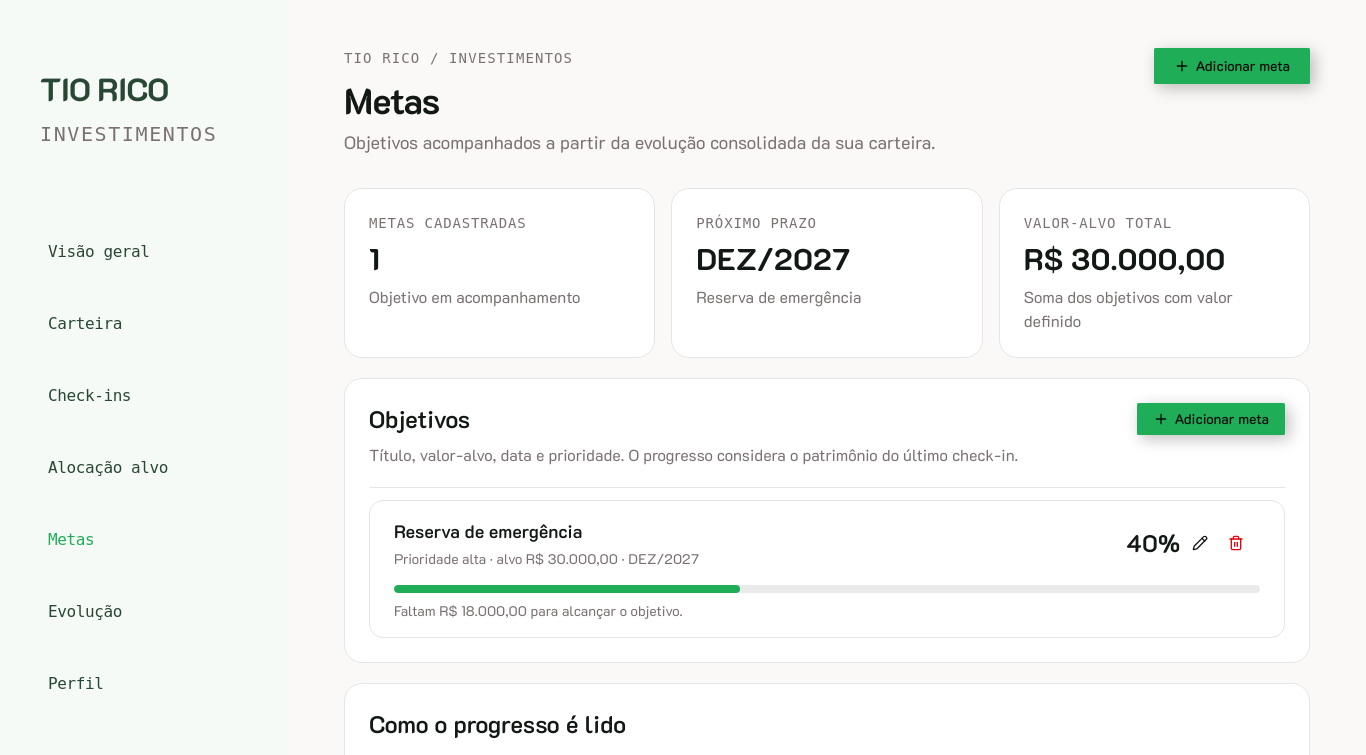
Test: Goals (metas) › mostra o erro da API no formulário quando salvar falha
Expected: the list named "Metas cadastradas" is shown, [369, 500, 1285, 638]
Click the button "Adicionar meta" in the row of "TIO RICO / INVESTIMENTOS" at (1232, 66), box [1154, 48, 1310, 84]
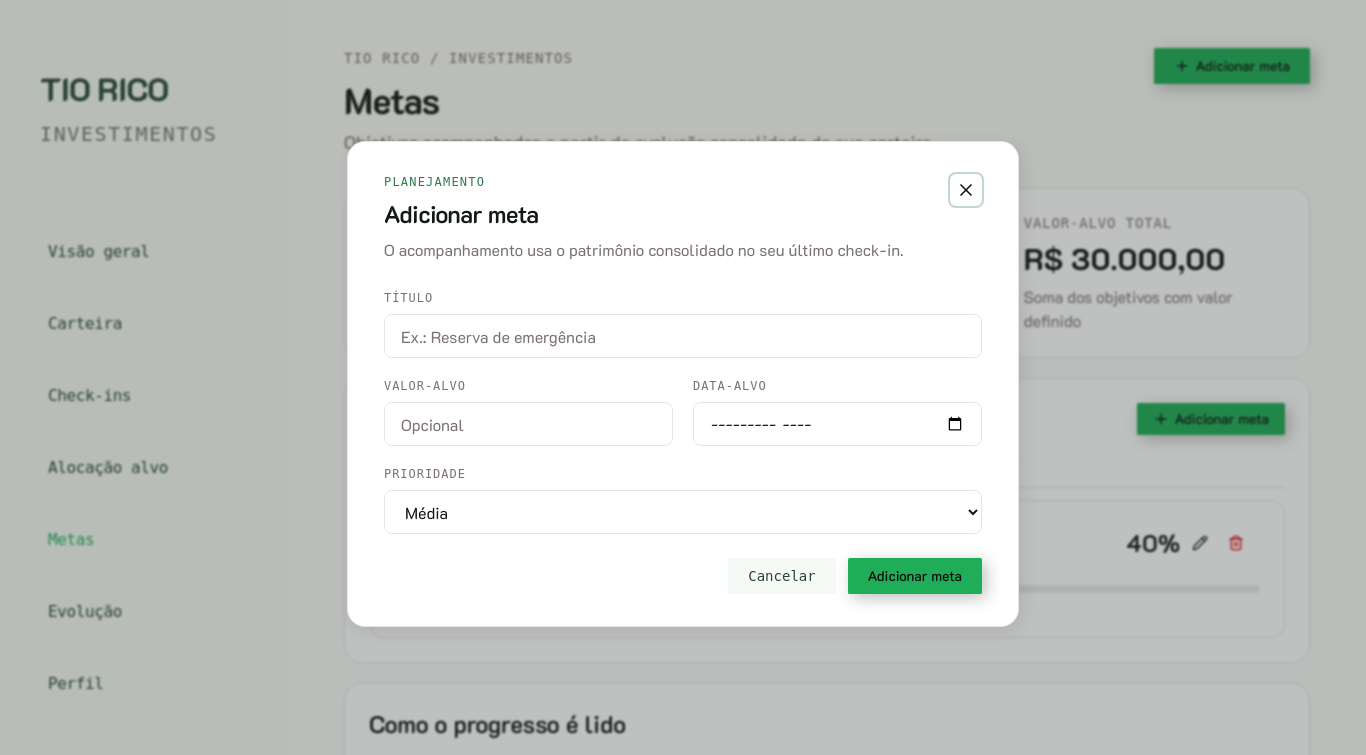
Type "Viagem" into the field labelled "Título" at (683, 336), box [384, 314, 982, 358]
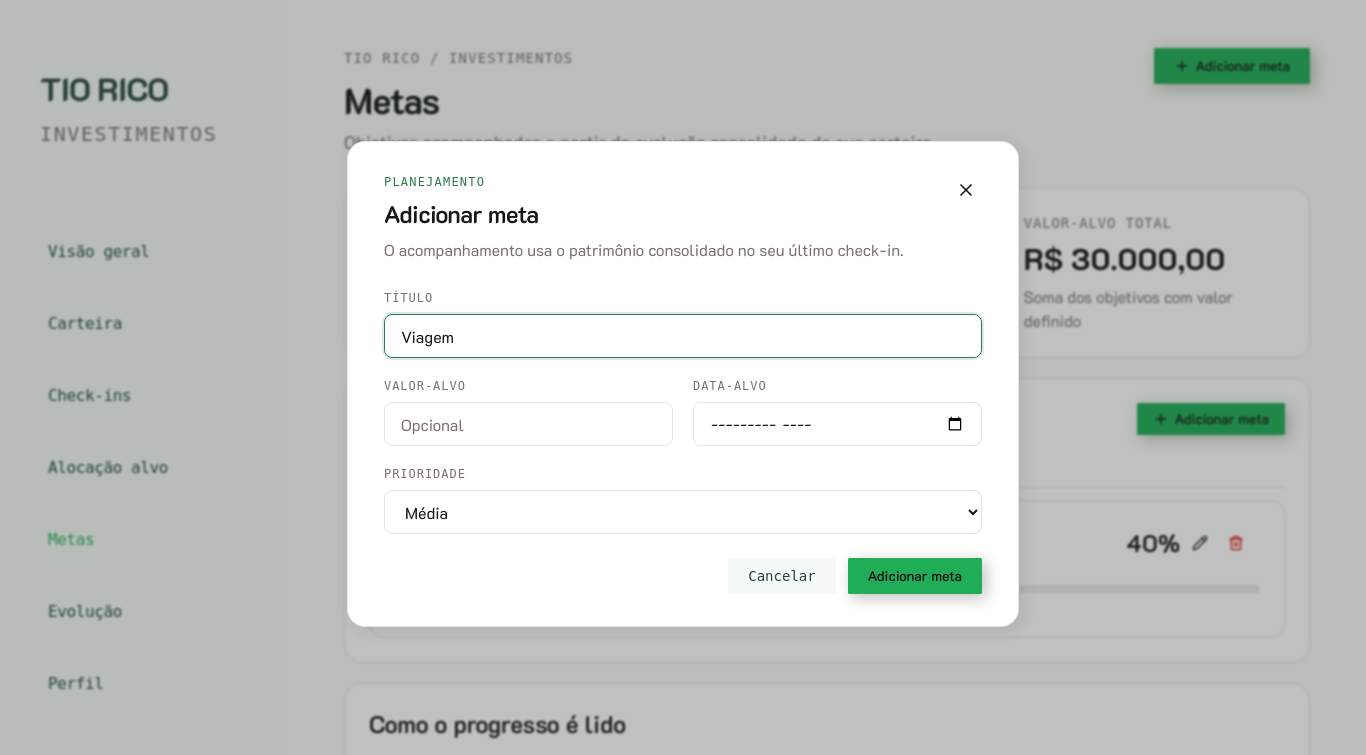
Click the button "Adicionar meta" at (915, 576), box [848, 558, 982, 594]
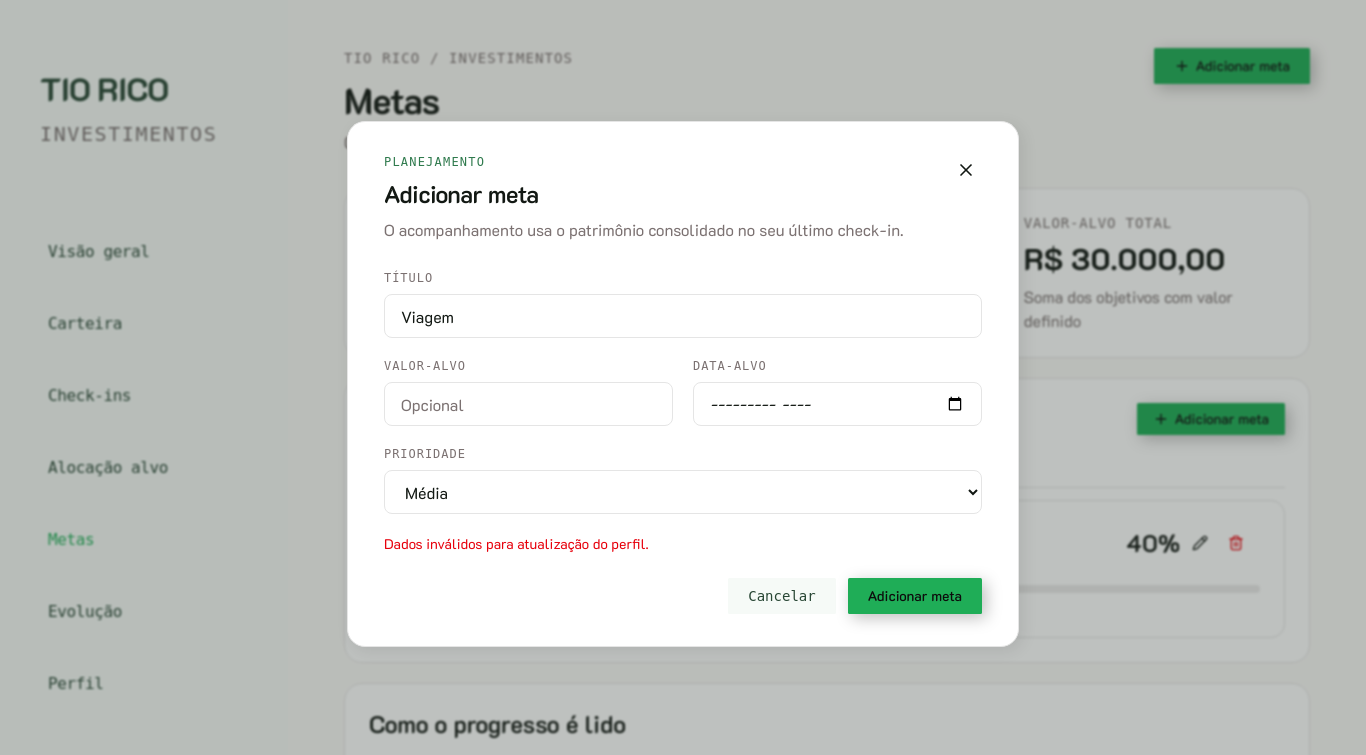
Expected: the text "Dados inválidos para atualização do perfil." is shown, [384, 534, 649, 553]
